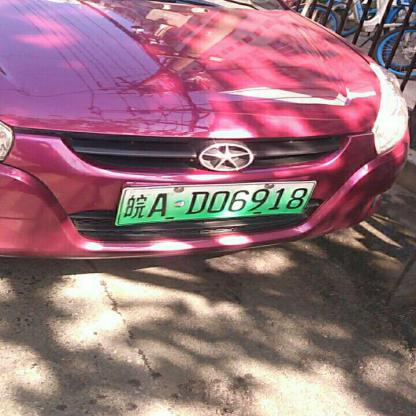lp: (117, 182, 313, 224)
